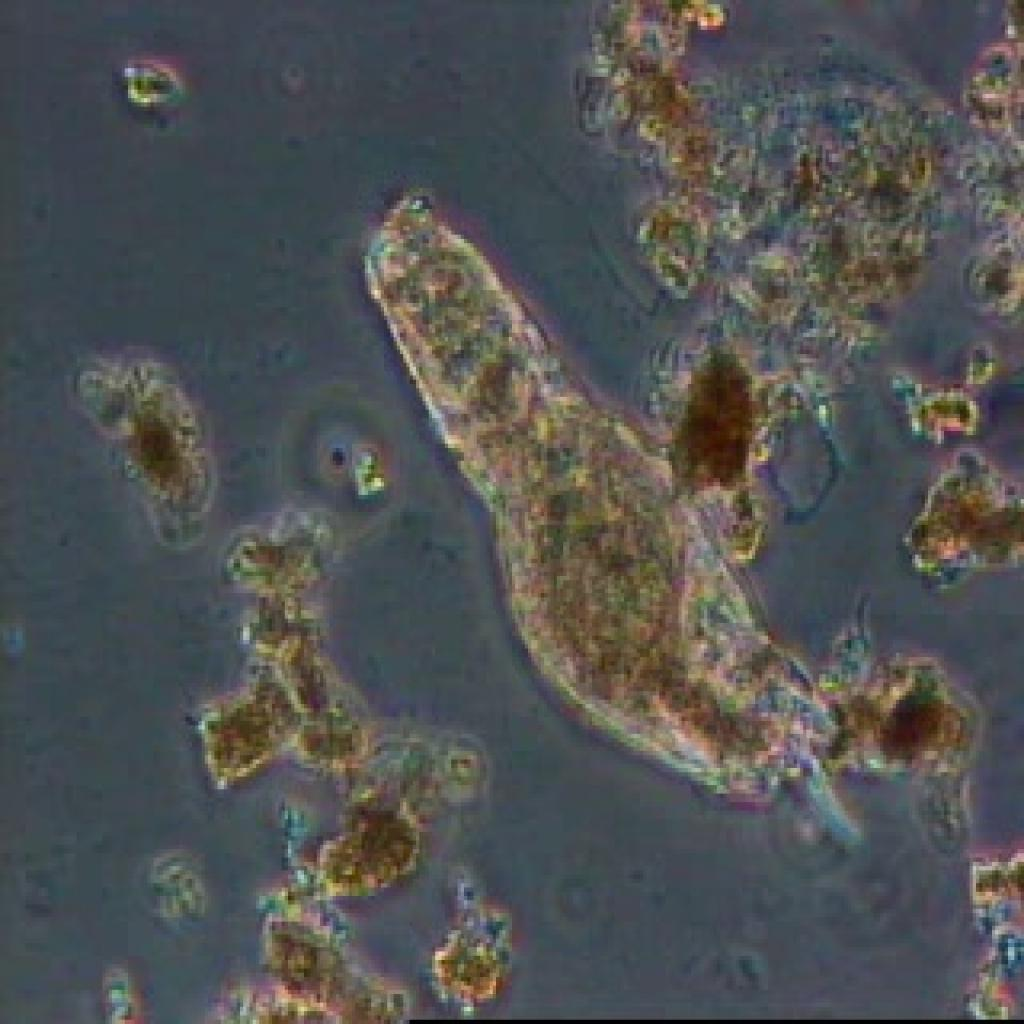Rotatoria: (370, 180, 852, 854)
